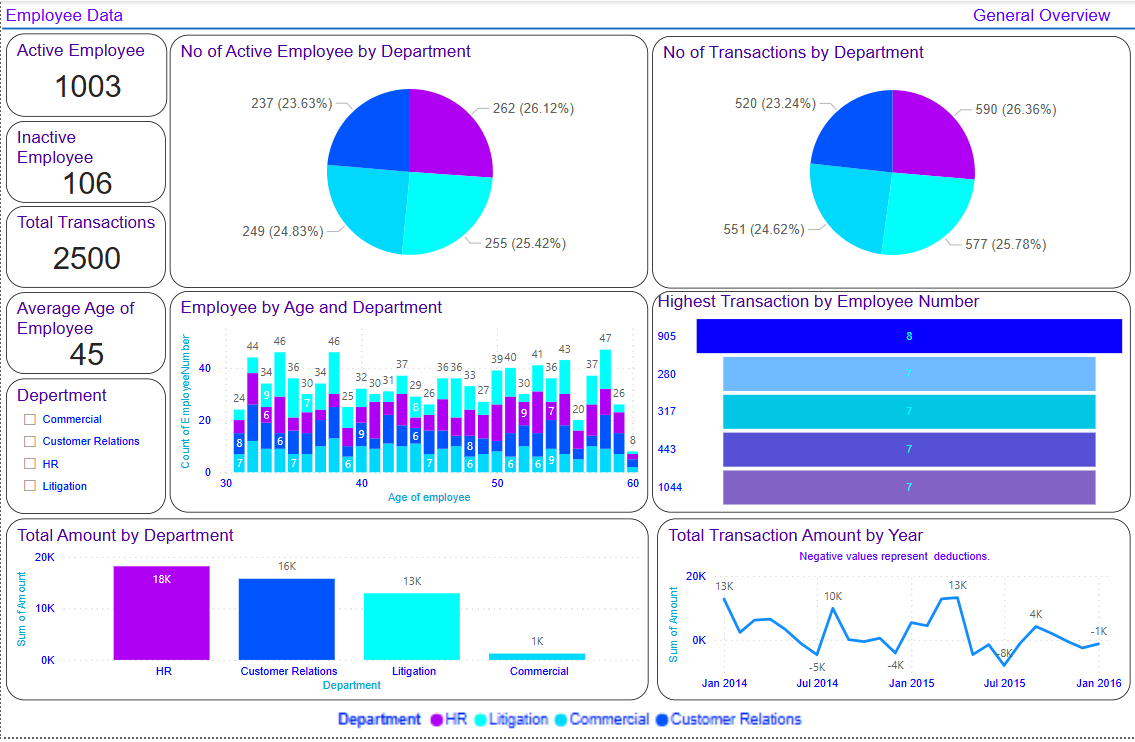

Layout of this report page (visuals, bound fields, positions):
{"tool":"powerbi","page":{"name":"Page 1","canvas":[1234,800],"ordinal":0},"visuals":[{"type":"textbox","box":[0,0,422.7,36.1],"z":0},{"type":"textbox","box":[1045.7,0,233.7,37],"z":1000},{"type":"card","title":"Active Employee","fields":{"Values":["Count(tblemployee.EmployeeNumber)"]},"box":[5,35,175,90],"z":2000},{"type":"slicer","title":"Depertment","fields":{"Values":["tblemployee.Department"]},"box":[5,411,173.9,147.4],"z":3000},{"type":"card","title":"Total Transactions","fields":{"Values":["CountNonNull(tblTransaction.Amount)"]},"box":[5.6,223,173.9,89],"z":4000},{"type":"pieChart","title":"No of Active  Employee by Department","fields":{"Category":["tblemployee.Department"],"Y":["CountNonNull(tblemployee.EmployeeNumber)"]},"box":[183.6,36.2,520.2,275.4],"z":5000},{"type":"pieChart","title":"No of Transactions by Department","fields":{"Y":["CountNonNull(tblTransaction.DateofTransaction)"],"Category":["tblemployee.Department"]},"box":[708,37.6,520.2,274],"z":6000},{"type":"clusteredColumnChart","title":"Total Amount by Department ","fields":{"Category":["tblTransaction.DateofTransaction.Variation.Date Hierarchy.Year","tblemployee.Department"],"Y":["Sum(tblTransaction.Amount)"]},"box":[5.1,562,698.3,197.3],"z":7000},{"type":"card","title":"Average Age of Employee","fields":{"Values":["Avg(tblemployee.Age of employee)"]},"box":[5.6,316,173.9,89],"z":8000},{"type":"funnel","title":"Highest Transaction by Employee Number","fields":{"Category":["tblemployee.Department","tblTransaction.[EmployeeNumber]"],"Y":["CountNonNull(tblTransaction.Amount)"]},"box":[708,315.7,520.2,240.6],"z":9000},{"type":"shape","box":[1.4,0,1262.3,59.8],"z":10000},{"type":"card","title":"Inactive Employee","fields":{"Values":["Count(tblTransaction.[EmployeeNumber])"]},"box":[5.6,130,173.9,89],"z":11000},{"type":"lineChart","title":"Total Transaction Amount  by Year","fields":{"Category":["tblTransaction.DateofTransaction.Variation.Date Hierarchy.Year","tblTransaction.DateofTransaction.Variation.Date Hierarchy.Month"],"Y":["Sum(tblTransaction.Amount)"]},"box":[713.5,561.9,514.6,197.5],"z":12000},{"type":"columnChart","title":"Employee by Age and Department","fields":{"Category":["tblemployee.Age of employee"],"Y":["CountNonNull(tblemployee.EmployeeNumber)"],"Series":["tblemployee.Department"]},"box":[183.6,315.7,520.2,240.6],"z":13000},{"type":"image","box":[5.1,760.1,1223.4,39.5],"z":14000}]}

Visuals, with their boxes in screenshot pixels (x1, y1, x2, y2), scaled from the page's 1234x800 canvas onto the 1135x742 screenshot:
textbox: (left=0, top=0, right=389, bottom=33)
textbox: (left=962, top=0, right=1134, bottom=34)
"Active Employee" card: (left=5, top=32, right=166, bottom=116)
"Depertment" slicer: (left=5, top=381, right=165, bottom=518)
"Total Transactions" card: (left=5, top=207, right=165, bottom=289)
"No of Active  Employee by Department" pieChart: (left=169, top=34, right=647, bottom=289)
"No of Transactions by Department" pieChart: (left=651, top=35, right=1130, bottom=289)
"Total Amount by Department " clusteredColumnChart: (left=5, top=521, right=647, bottom=704)
"Average Age of Employee" card: (left=5, top=293, right=165, bottom=376)
"Highest Transaction by Employee Number" funnel: (left=651, top=293, right=1130, bottom=516)
shape: (left=1, top=0, right=1134, bottom=55)
"Inactive Employee" card: (left=5, top=121, right=165, bottom=203)
"Total Transaction Amount  by Year" lineChart: (left=656, top=521, right=1130, bottom=704)
"Employee by Age and Department" columnChart: (left=169, top=293, right=647, bottom=516)
image: (left=5, top=705, right=1130, bottom=741)
